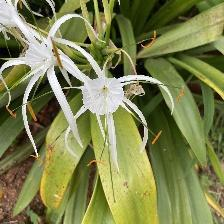spider lily: (64, 62, 157, 149)
